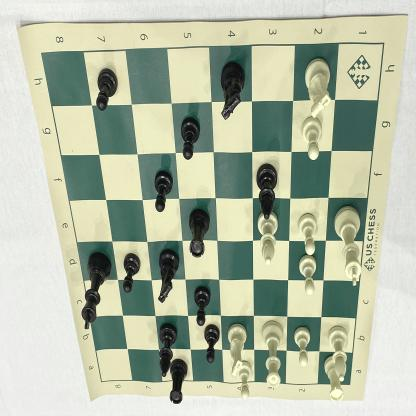black-bishop: (254, 159, 280, 221), (158, 319, 178, 381)
black-king: (79, 249, 114, 334)
black-knight: (218, 58, 248, 122), (155, 244, 180, 308)
black-pawn: (94, 64, 119, 115), (178, 115, 202, 166), (153, 164, 174, 218), (119, 248, 142, 295), (202, 323, 223, 366), (192, 284, 212, 328)
black-rook: (186, 206, 212, 264), (168, 357, 191, 411)
white-bishop: (254, 208, 282, 270), (325, 322, 352, 384)
white-king: (330, 202, 365, 290)
white-knight: (302, 54, 335, 120), (225, 321, 249, 379)
white-pawn: (296, 210, 320, 260), (300, 116, 324, 165), (296, 253, 320, 300), (233, 360, 257, 404), (292, 326, 314, 369)
white-queen: (259, 316, 287, 390)
white-rook: (319, 352, 348, 406)
